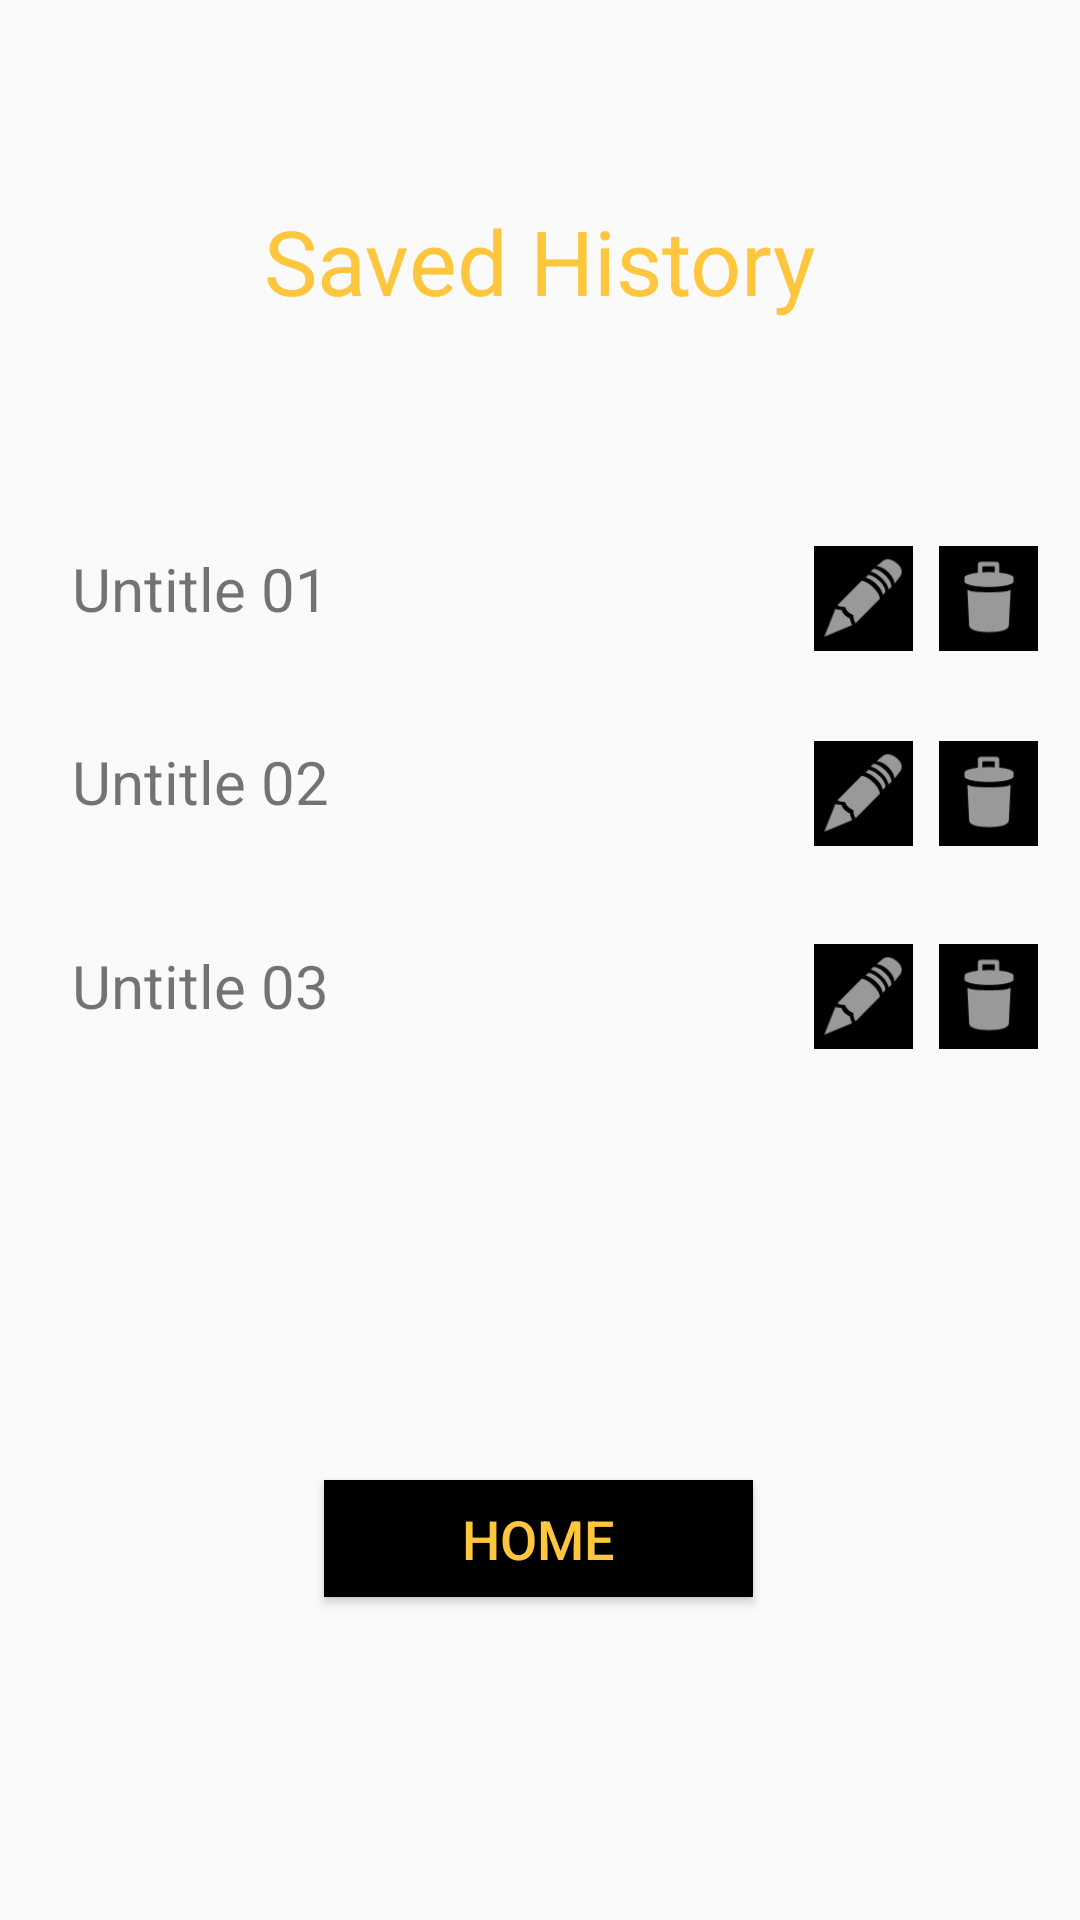

Locate icon controls on the screen. Image size 1080×1920, boxes as (x1, y1, x2, y2).
delete: (939, 546, 1038, 651), (939, 741, 1038, 846), (939, 944, 1038, 1049)
edit: (814, 546, 913, 651), (814, 741, 913, 846), (814, 944, 913, 1049)
